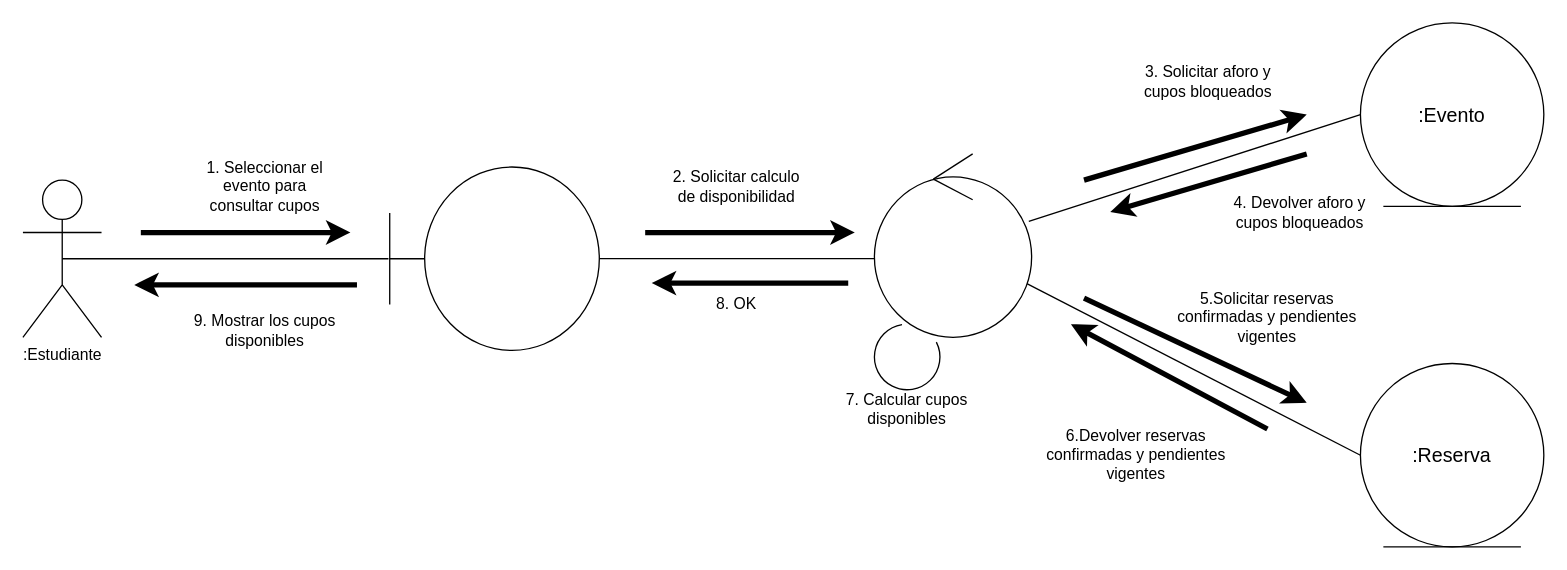
Some shapes in this 1567 by 570 pixel diagram are drawn without their labels. The centre of each missing label's shape, as x and y in pixels:
:Calculo Disponibilidad: the point at 952,245
:PantallaEvento: the point at 493,258
